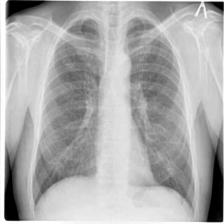tuberculosis: (27, 12, 198, 211)
